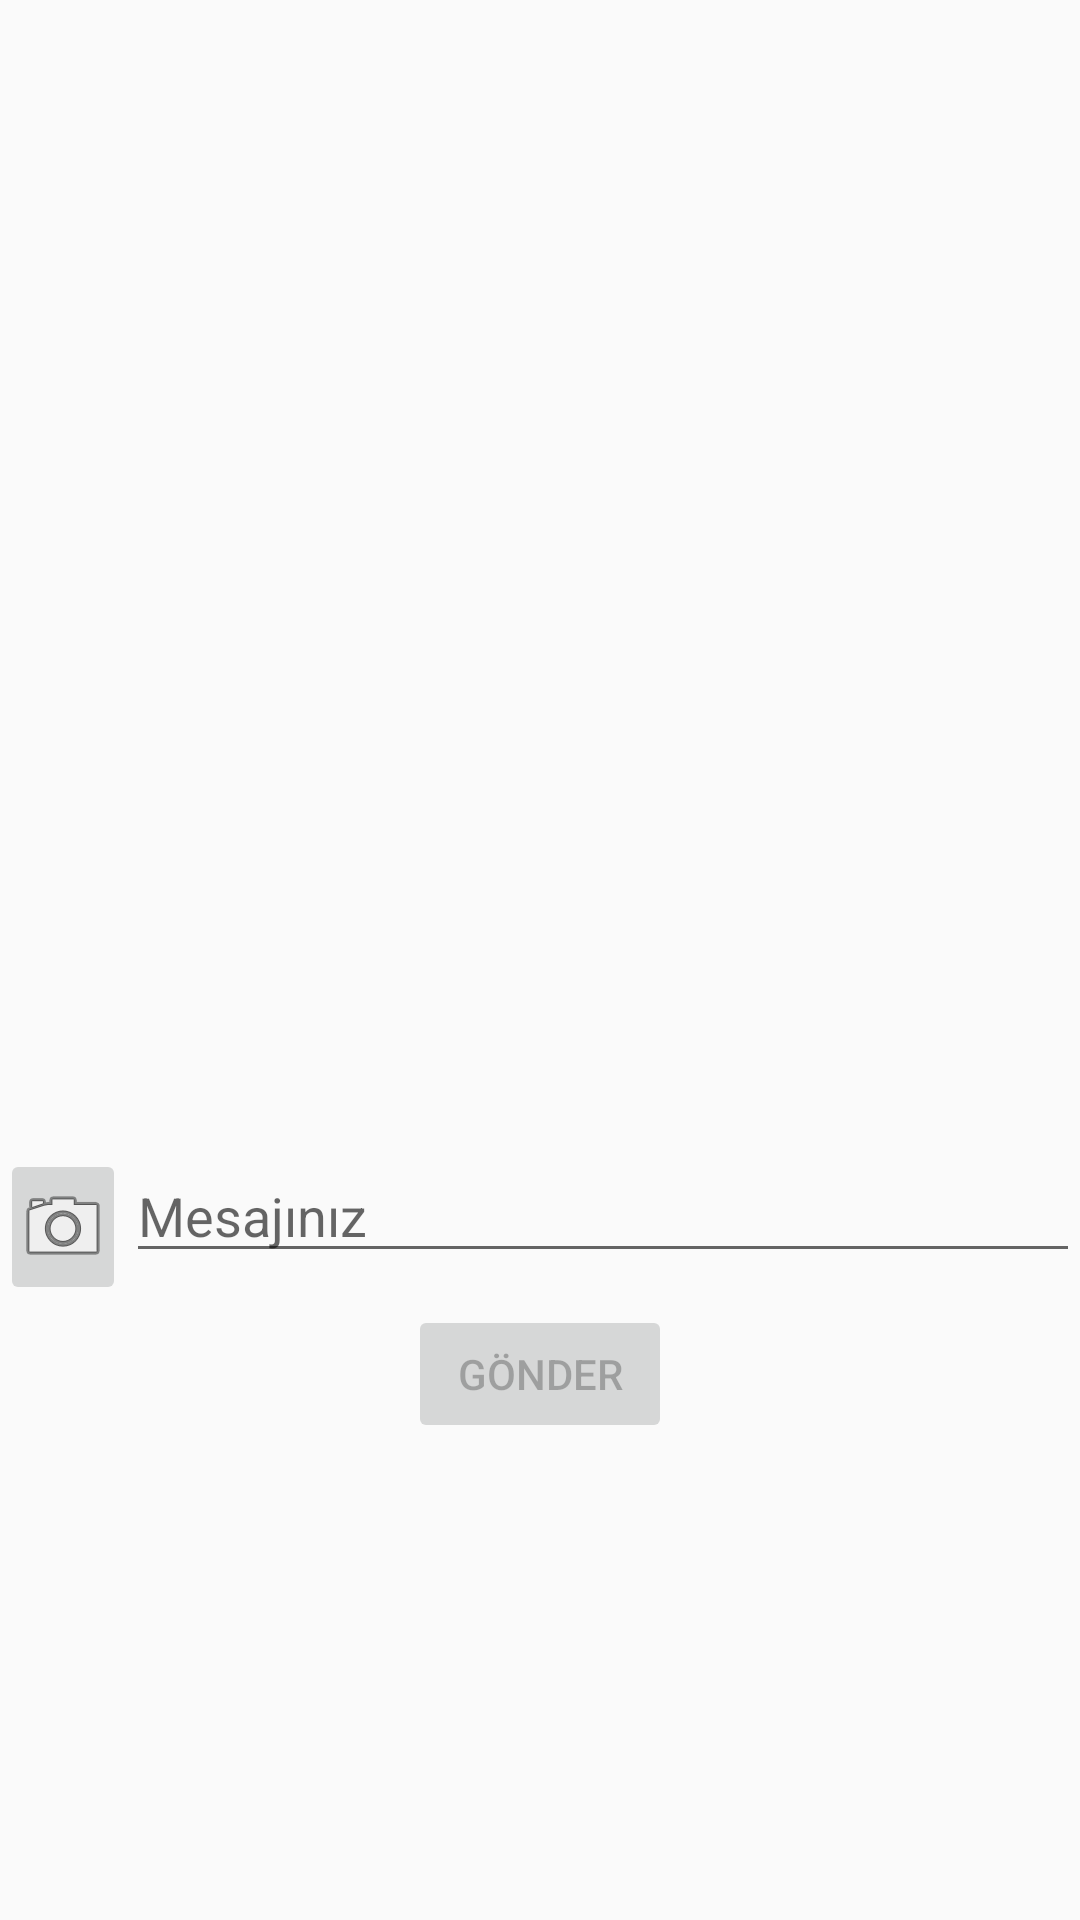

Named icons in this screenshot (1080 × 1920) and their centers, point (x, y):
camera: point (63, 1227)
